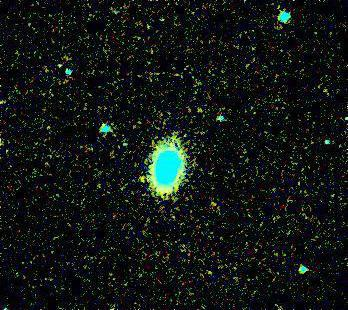star: (125, 165, 155, 195)
